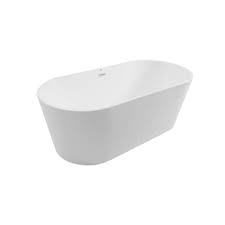bathub: (36, 56, 198, 169)
